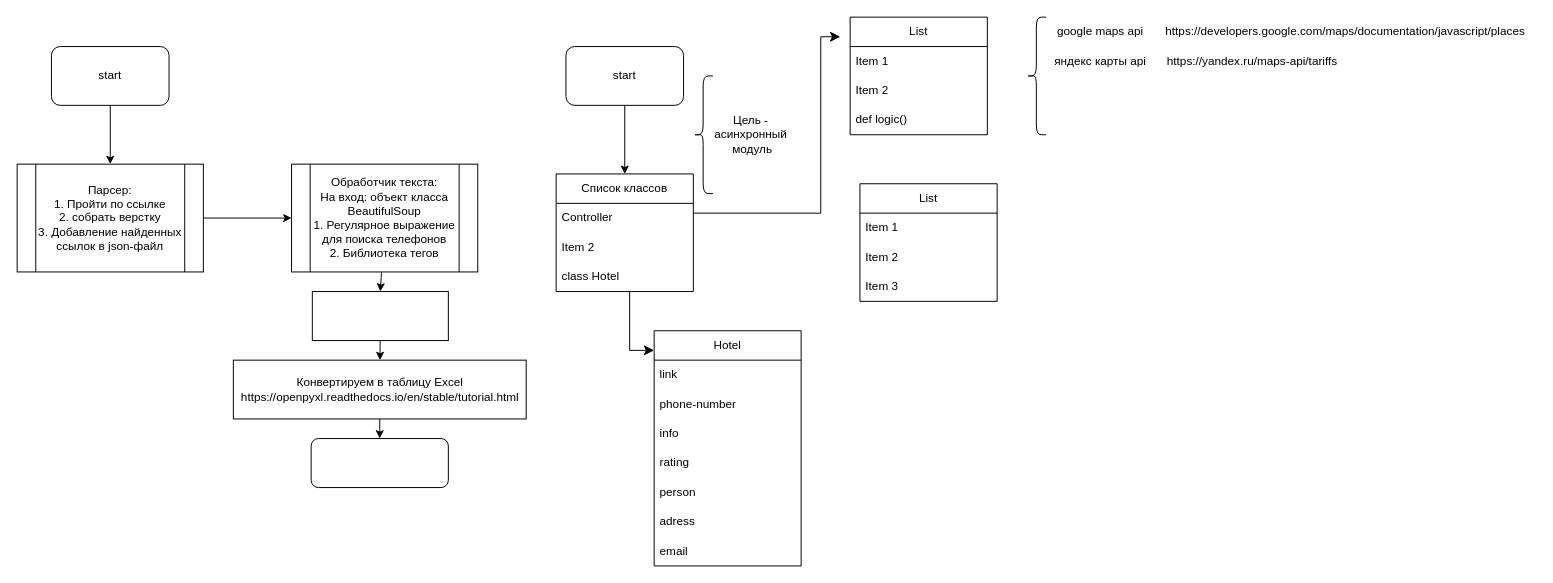
This 1553x583 diagram has some shape labels left out. The centre of each missing label's shape, as x and y in pixels:
"end" goes at [379,463].
"Запись в json-файл" goes at [379,316].
